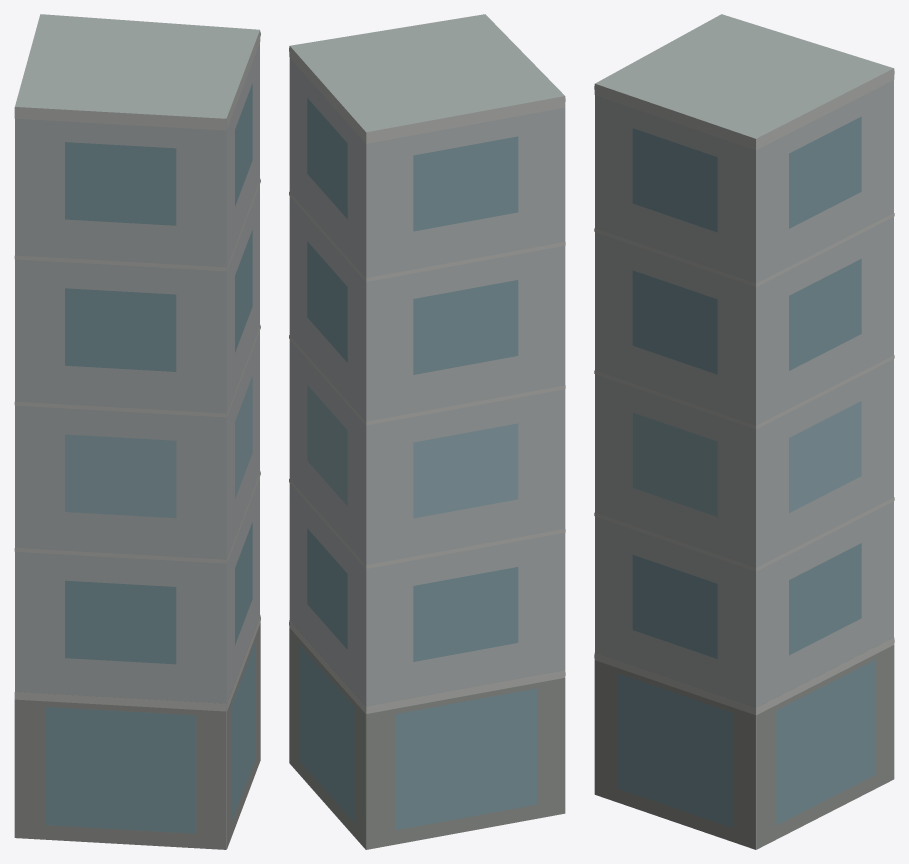
Rendered from survey-upis-33032326.glb.
3 views of the same model, side by side, from view 1: azimuth 30°, elevation 25°; view 2: azimuth 150°, elevation 25°; view 3: azimuth 270°, elevation 25° (orthographic). The views are drawn at different scales.
Parts seen in each view (by area): view 1: survey-upis-33032326.tmp; view 2: survey-upis-33032326.tmp; view 3: survey-upis-33032326.tmp.
Part boxes in pixels (left/top/right/bottom): survey-upis-33032326.tmp: left=14, top=14, right=260, bottom=849; survey-upis-33032326.tmp: left=289, top=14, right=565, bottom=849; survey-upis-33032326.tmp: left=594, top=14, right=894, bottom=849.
Size of the model in its own units: 5.76 by 15.25 by 5.84.
